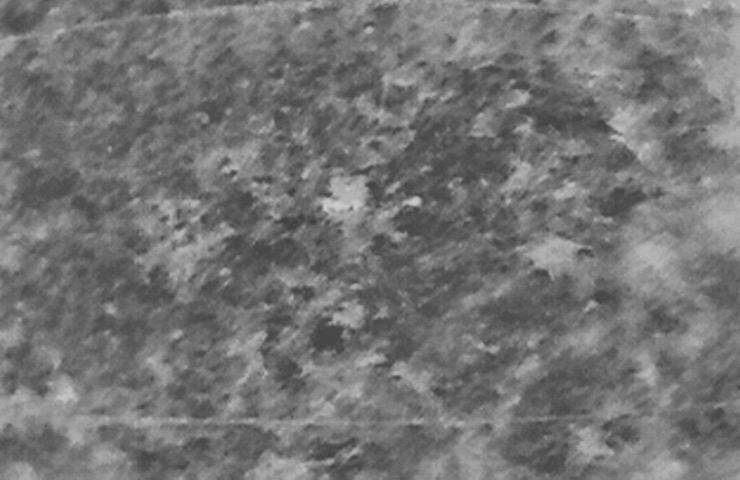landmines: (322, 170, 375, 218)
